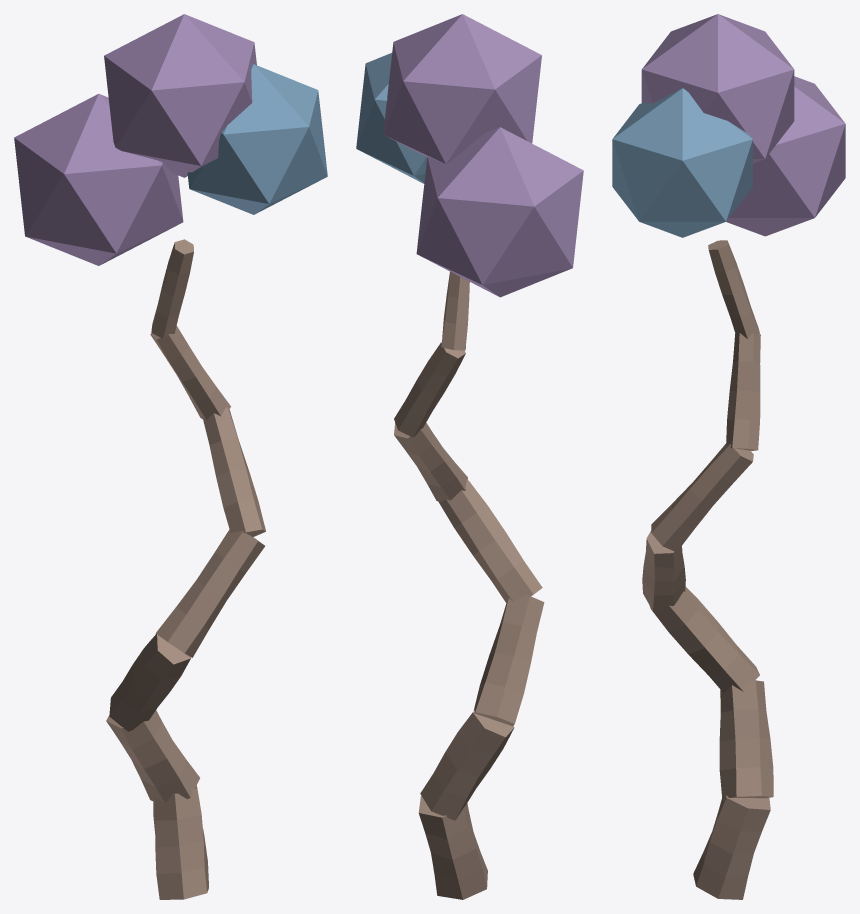
File: 10_SpiralTree_Mystic.glb
The picture shows the model from 3 angles, left to right: view 1: azimuth 30°, elevation 25°; view 2: azimuth 150°, elevation 25°; view 3: azimuth 270°, elevation 25°; orthographic projection.
Visible parts, largest first — view 1: SpiralTree_Foliage1, SpiralTree_Foliage3, SpiralTree_Foliage2, SpiralTree_Trunk3, SpiralTree_Trunk0, SpiralTree_Trunk1, SpiralTree_Trunk2, SpiralTree_Trunk4, SpiralTree_Trunk5, SpiralTree_Trunk6; view 2: SpiralTree_Foliage1, SpiralTree_Foliage3, SpiralTree_Trunk2, SpiralTree_Trunk1, SpiralTree_Trunk3, SpiralTree_Trunk0, SpiralTree_Foliage2, SpiralTree_Trunk5, SpiralTree_Trunk4, SpiralTree_Trunk6; view 3: SpiralTree_Foliage2, SpiralTree_Foliage3, SpiralTree_Foliage1, SpiralTree_Trunk1, SpiralTree_Trunk0, SpiralTree_Trunk2, SpiralTree_Trunk4, SpiralTree_Trunk5, SpiralTree_Trunk3, SpiralTree_Trunk6.
Boxes of the visible parts, x1=… form: SpiralTree_Foliage1: x1=14, y1=93, x2=183, y2=265; SpiralTree_Foliage3: x1=104, y1=14, x2=256, y2=177; SpiralTree_Foliage2: x1=187, y1=64, x2=327, y2=214; SpiralTree_Trunk3: x1=155, y1=529, x2=264, y2=657; SpiralTree_Trunk0: x1=153, y1=785, x2=208, y2=899; SpiralTree_Trunk1: x1=106, y1=710, x2=199, y2=802; SpiralTree_Trunk2: x1=109, y1=634, x2=190, y2=731; SpiralTree_Trunk4: x1=202, y1=407, x2=265, y2=536; SpiralTree_Trunk5: x1=150, y1=326, x2=230, y2=419; SpiralTree_Trunk6: x1=151, y1=239, x2=193, y2=338; SpiralTree_Foliage1: x1=416, y1=127, x2=583, y2=297; SpiralTree_Foliage3: x1=383, y1=14, x2=541, y2=164; SpiralTree_Trunk2: x1=473, y1=595, x2=544, y2=726; SpiralTree_Trunk1: x1=420, y1=710, x2=514, y2=820; SpiralTree_Trunk3: x1=438, y1=479, x2=542, y2=602; SpiralTree_Trunk0: x1=418, y1=796, x2=487, y2=899; SpiralTree_Foliage2: x1=356, y1=53, x2=427, y2=183; SpiralTree_Trunk5: x1=394, y1=342, x2=465, y2=437; SpiralTree_Trunk4: x1=394, y1=422, x2=467, y2=501; SpiralTree_Trunk6: x1=441, y1=271, x2=469, y2=350; SpiralTree_Foliage2: x1=612, y1=88, x2=752, y2=237; SpiralTree_Foliage3: x1=641, y1=14, x2=794, y2=163; SpiralTree_Foliage1: x1=726, y1=76, x2=845, y2=236; SpiralTree_Trunk1: x1=719, y1=680, x2=773, y2=799; SpiralTree_Trunk0: x1=693, y1=795, x2=770, y2=899; SpiralTree_Trunk2: x1=649, y1=587, x2=759, y2=692; SpiralTree_Trunk4: x1=651, y1=443, x2=753, y2=552; SpiralTree_Trunk5: x1=726, y1=333, x2=760, y2=450; SpiralTree_Trunk3: x1=642, y1=530, x2=685, y2=611; SpiralTree_Trunk6: x1=708, y1=240, x2=759, y2=338.
Size of the model in its own units: 1.22 by 4.11 by 0.988.
